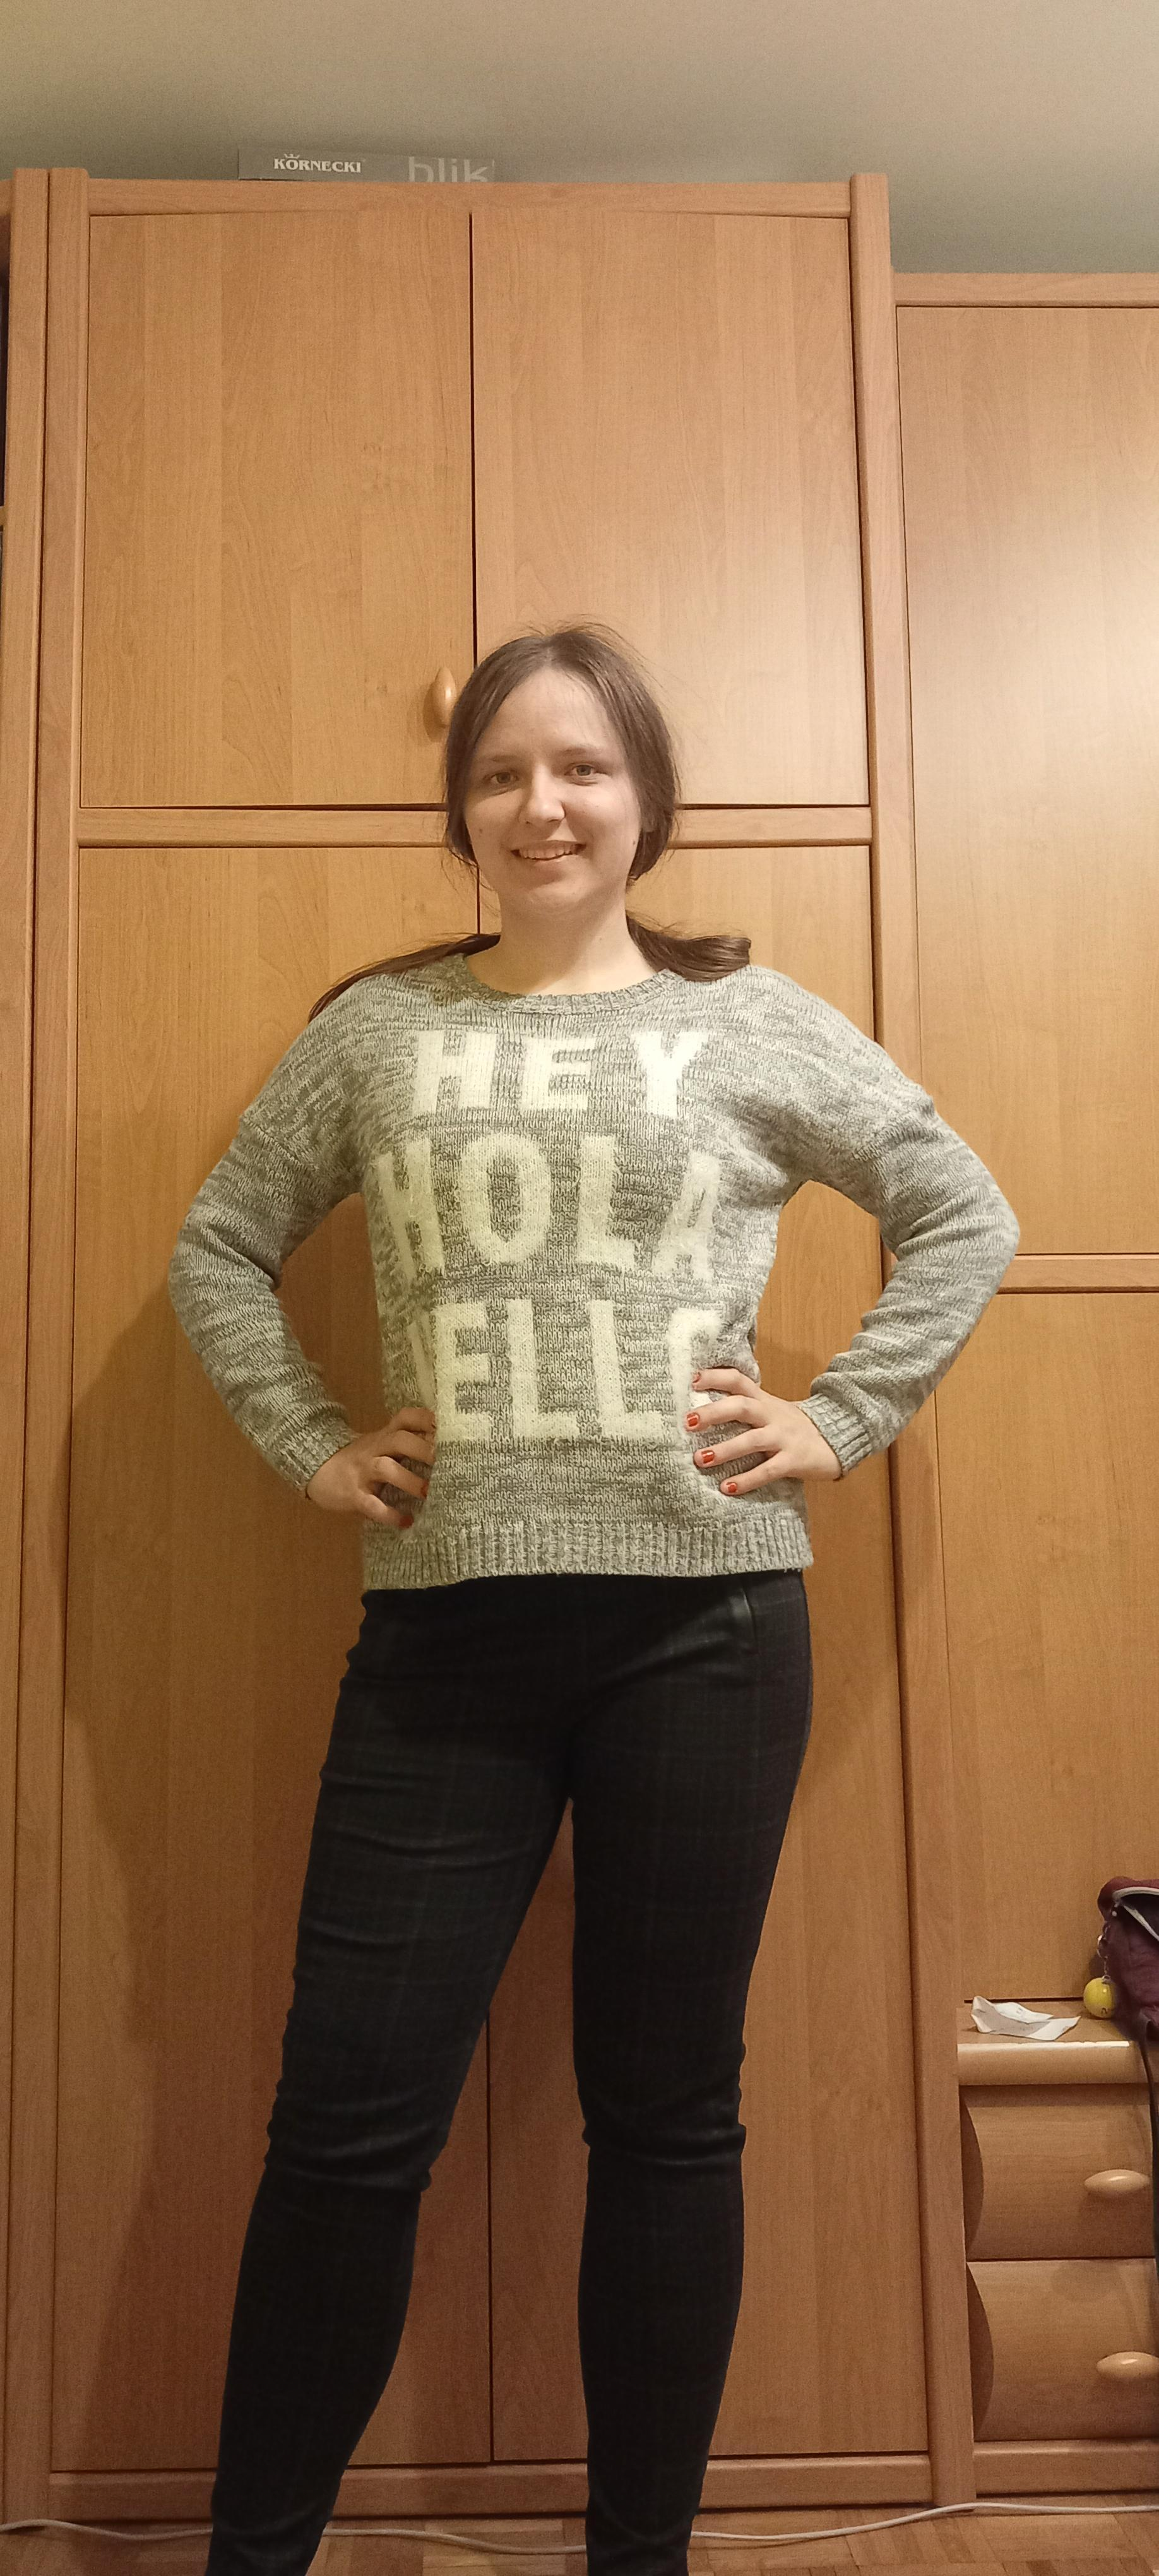pants: (207, 1572, 813, 2576)
sweater: (166, 953, 1021, 1595)
